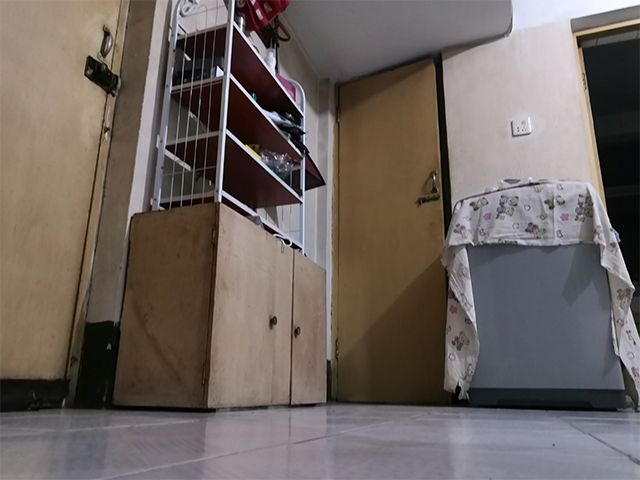cabinet: (109, 194, 330, 415)
